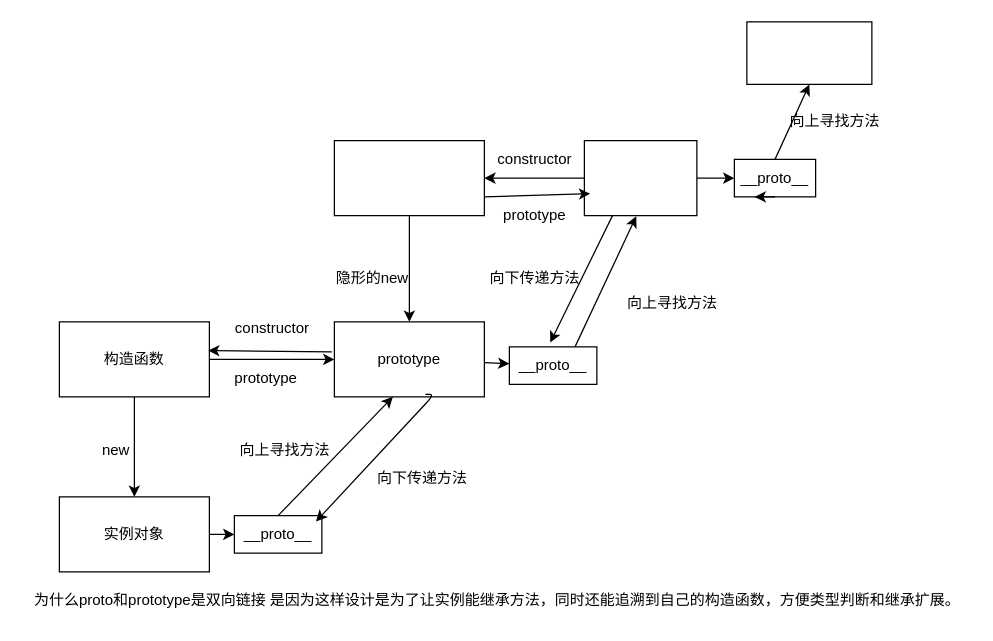
The diagram is 993 pixels wide and 641 high, and some of its shapes have lost their labels. The shapes that lost their labels are listed below. From the top down, each one's centre as x and y in pixels, then its label:
the point at 809,52: null
the point at 408,177: Object
the point at 640,177: Object.prototype
